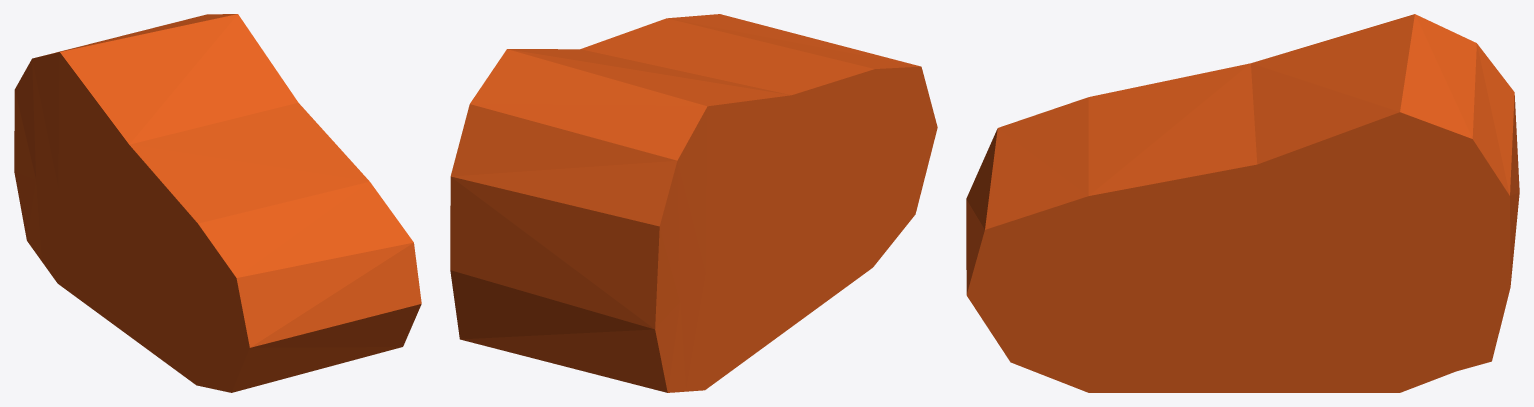
File: chassis.dae
The picture shows the model from 3 angles, left to right: view 1: azimuth 30°, elevation 25°; view 2: azimuth 150°, elevation 25°; view 3: azimuth 270°, elevation 25°; orthographic projection. The views are drawn at different scales.
Parts seen in each view (by area): view 1: Chassis; view 2: Chassis; view 3: Chassis.
Boxes of the visible parts, <box> form: Chassis: <box>14,14,421,392</box>; Chassis: <box>450,14,937,392</box>; Chassis: <box>966,14,1519,392</box>.
Size of the model in its own units: 0.8481 by 1.97 by 1.1.
